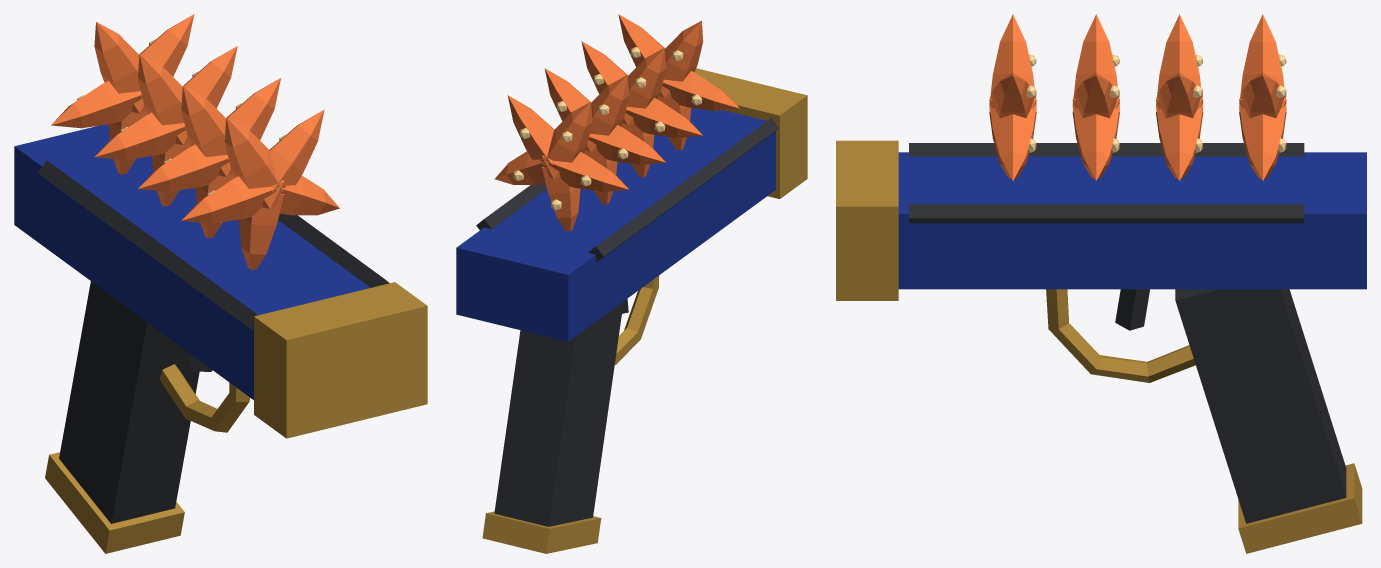
The model's file is StarThrower.obj.
3 views of the same model, side by side, from view 1: azimuth 30°, elevation 25°; view 2: azimuth 150°, elevation 25°; view 3: azimuth 270°, elevation 25° (orthographic). The views are drawn at different scales.
Visible parts, largest first — view 1: StarThrower; view 2: StarThrower; view 3: StarThrower.
Boxes of the visible parts, bbox=[...] form: StarThrower: bbox=[14, 14, 427, 553]; StarThrower: bbox=[456, 14, 807, 553]; StarThrower: bbox=[836, 14, 1366, 553].
Bounding box in the file's own units: 0.0845 × 0.2673 × 0.255.
